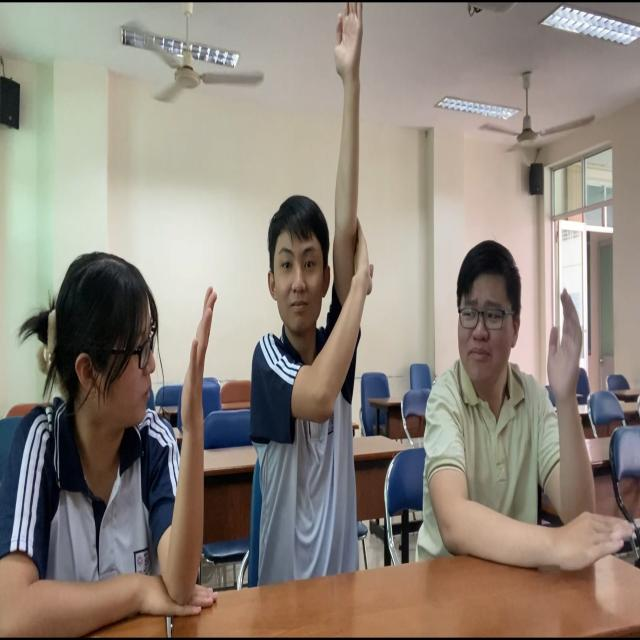raise_hand: (1, 239, 223, 640), (240, 1, 381, 578), (425, 238, 630, 593)
